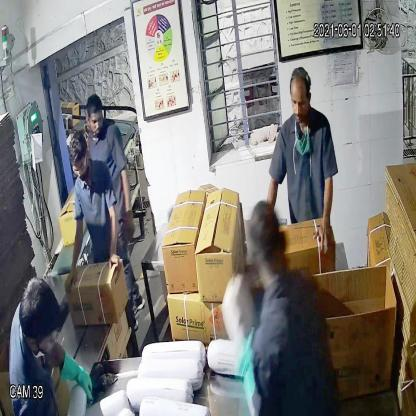goggles: (68, 160, 92, 180)
no_goggles: (287, 88, 314, 114)
